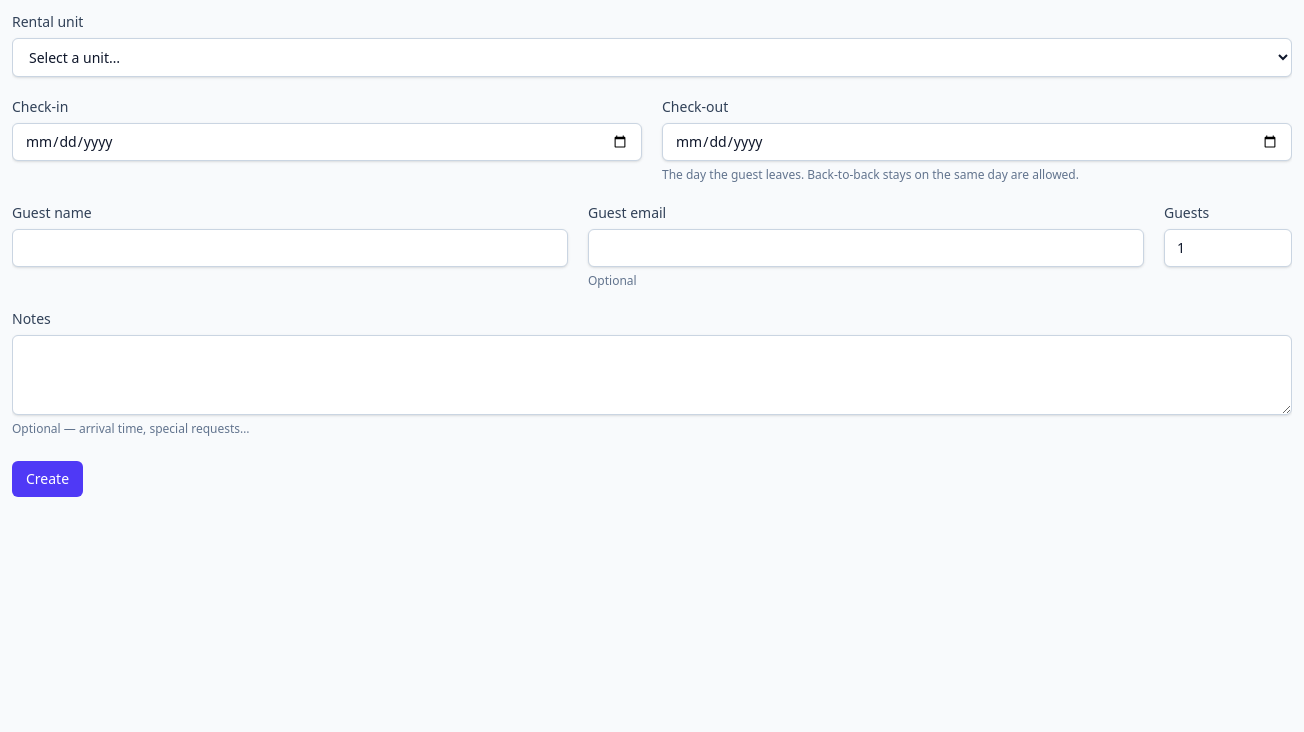
ReservationForm › blocks submission and shows field errors when required fields are missing
What coordinates should you click on to do the following:
click the button "Create"
I would click on:
 (48, 479)
Its box is x1=12 y1=461 x2=83 y2=497.
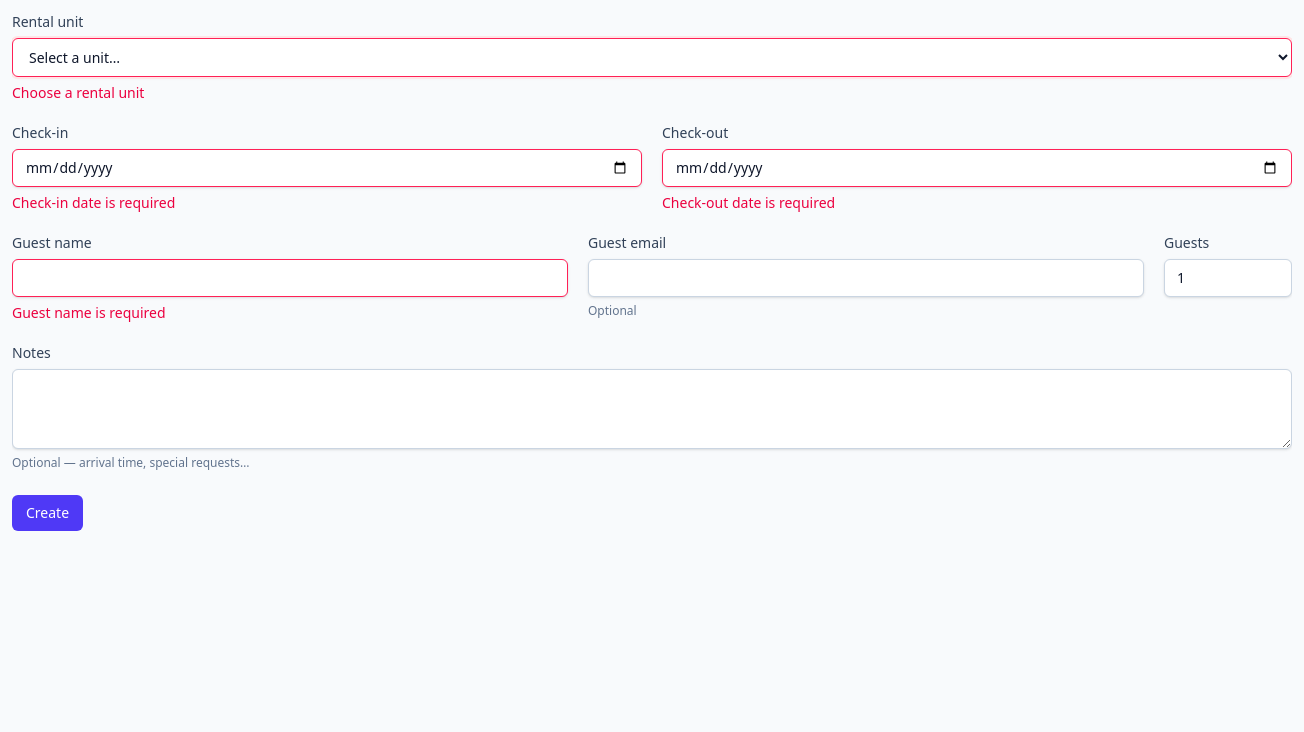
Result: the text "Choose a rental unit" is shown at x1=12 y1=83 x2=144 y2=102
Result: the text "Guest name is required" is shown at x1=12 y1=303 x2=166 y2=322
Result: the text "Check-in date is required" is shown at x1=12 y1=193 x2=175 y2=212
